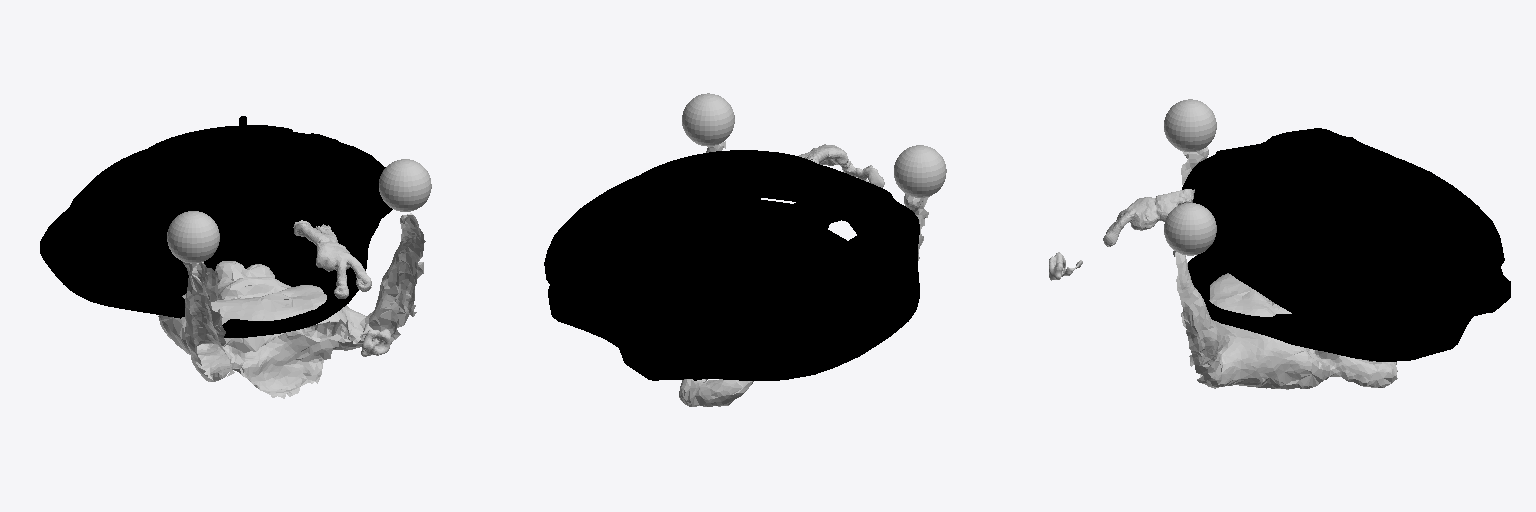
3 views of the same model, side by side, from view 1: azimuth 30°, elevation 25°; view 2: azimuth 150°, elevation 25°; view 3: azimuth 270°, elevation 25° (orthographic).
Parts seen in each view (by area): view 1: 球体.314, textured.003, textured.002, 球体.316, 球体.315, 融球.037; view 2: 球体.314, textured.003, 球体.316, 球体.315, textured.002; view 3: 球体.314, textured.003, 球体.315, 球体.316, textured.002.
Part boxes in pixels (bbox=[...]): 球体.314: bbox=[40, 116, 392, 337]; textured.003: bbox=[158, 213, 425, 398]; textured.002: bbox=[293, 220, 371, 298]; 球体.316: bbox=[167, 211, 219, 263]; 球体.315: bbox=[379, 159, 431, 211]; 融球.037: bbox=[360, 324, 392, 356]; 球体.314: bbox=[544, 150, 919, 380]; textured.003: bbox=[679, 141, 928, 406]; 球体.316: bbox=[894, 145, 946, 197]; 球体.315: bbox=[682, 93, 734, 146]; textured.002: bbox=[799, 144, 855, 175]; 球体.314: bbox=[1182, 128, 1510, 361]; textured.003: bbox=[1173, 147, 1397, 389]; 球体.315: bbox=[1164, 203, 1216, 255]; 球体.316: bbox=[1164, 99, 1216, 151]; textured.002: bbox=[1103, 189, 1194, 246].
Bounding box in the file's own units: 68.79 × 46.47 × 83.76.